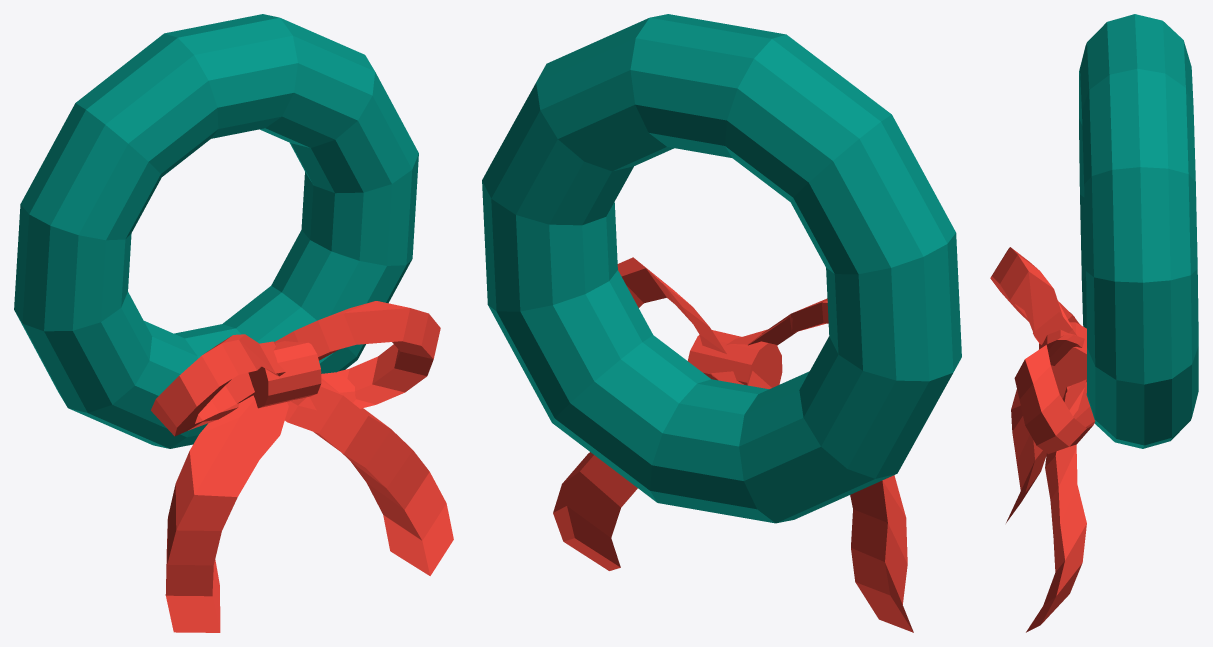
3 views of the same model, side by side, from view 1: azimuth 30°, elevation 25°; view 2: azimuth 150°, elevation 25°; view 3: azimuth 270°, elevation 25° (orthographic). The views are drawn at different scales.
Parts seen in each view (by area): view 1: mesh_1893848451, group_1235388747, group_374262902, group_1499358630, group_587393908, mesh_748821950; view 2: mesh_1893848451, group_1235388747, group_374262902, mesh_748821950, group_1499358630, group_587393908; view 3: mesh_1893848451, group_374262902, group_1499358630, group_587393908, group_1235388747, mesh_748821950.
Boxes of the visible parts, x1,y1,x2,y2 form: mesh_1893848451: (14,14,418,448); group_1235388747: (165,395,288,632); group_374262902: (284,380,453,575); group_1499358630: (275,301,440,410); group_587393908: (151,334,285,436); mesh_748821950: (248,341,321,408); mesh_1893848451: (482,14,961,523); group_1235388747: (850,475,913,632); group_374262902: (553,452,637,570); mesh_748821950: (688,330,782,387); group_1499358630: (617,257,726,353); group_587393908: (711,298,828,389); mesh_1893848451: (1079,14,1198,448); group_374262902: (1026,379,1086,632); group_1499358630: (1014,335,1095,454); group_587393908: (990,247,1080,344); group_1235388747: (1006,389,1046,522); mesh_748821950: (1039,322,1086,398).
Bounding box in the file's own units: 74.39 × 98.79 × 35.47.
